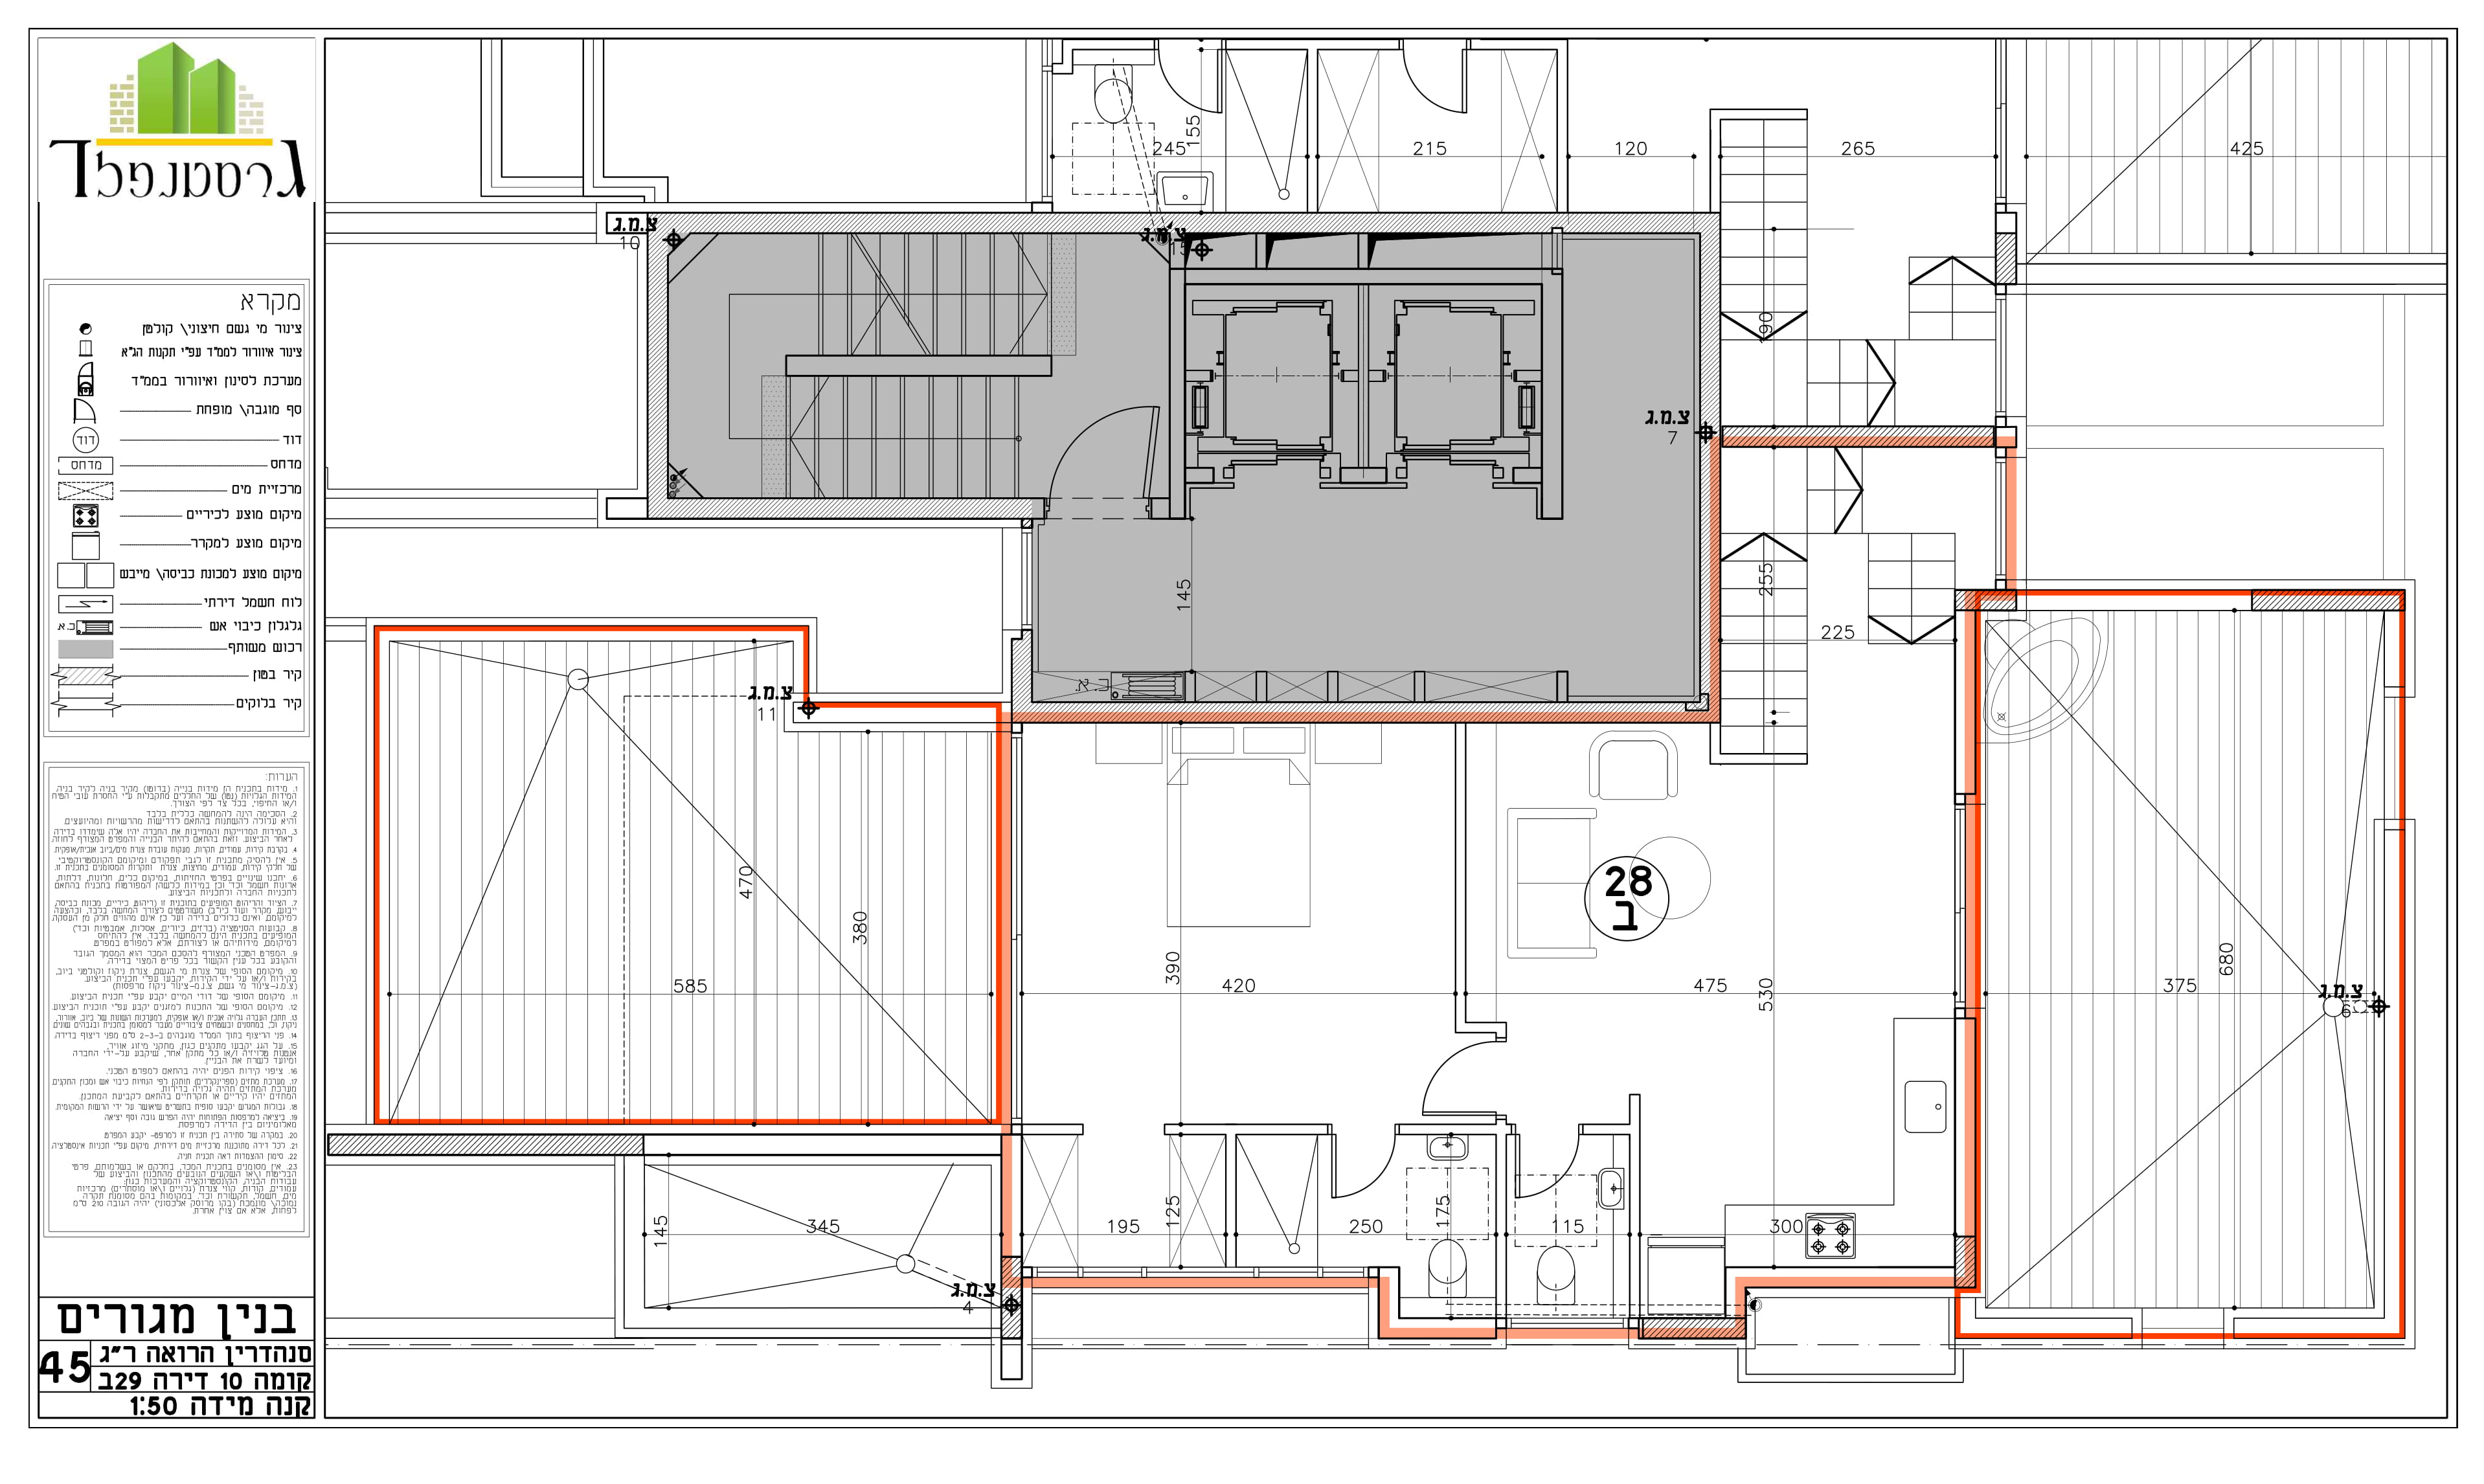door: (1035, 396, 1162, 546), (1401, 1033, 1549, 1124), (1323, 1099, 1410, 1210), (1385, 28, 1491, 118), (1155, 34, 1224, 143), (1507, 1108, 1585, 1201)
